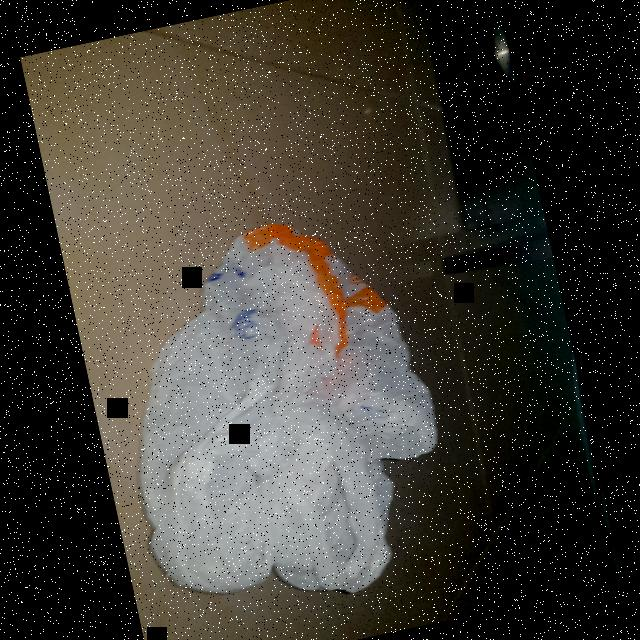plastic_bag: (75, 188, 482, 637)
